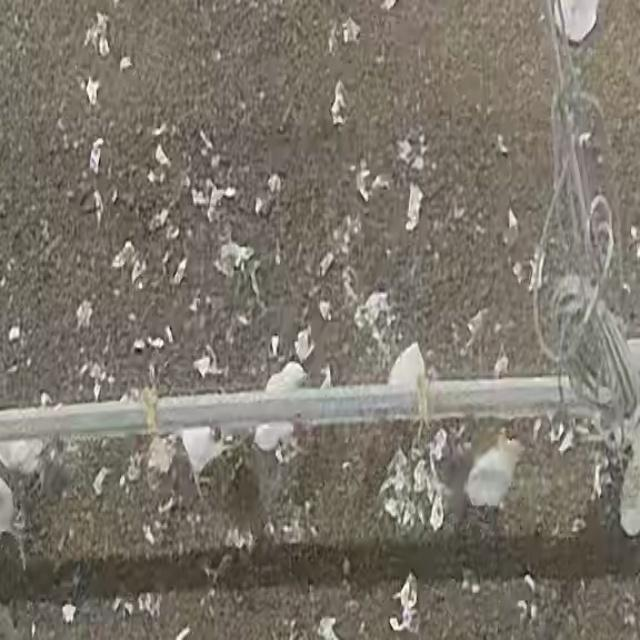chicken: (252, 359, 308, 458), (461, 438, 520, 508), (177, 426, 226, 496), (550, 0, 599, 48), (382, 339, 431, 385)
